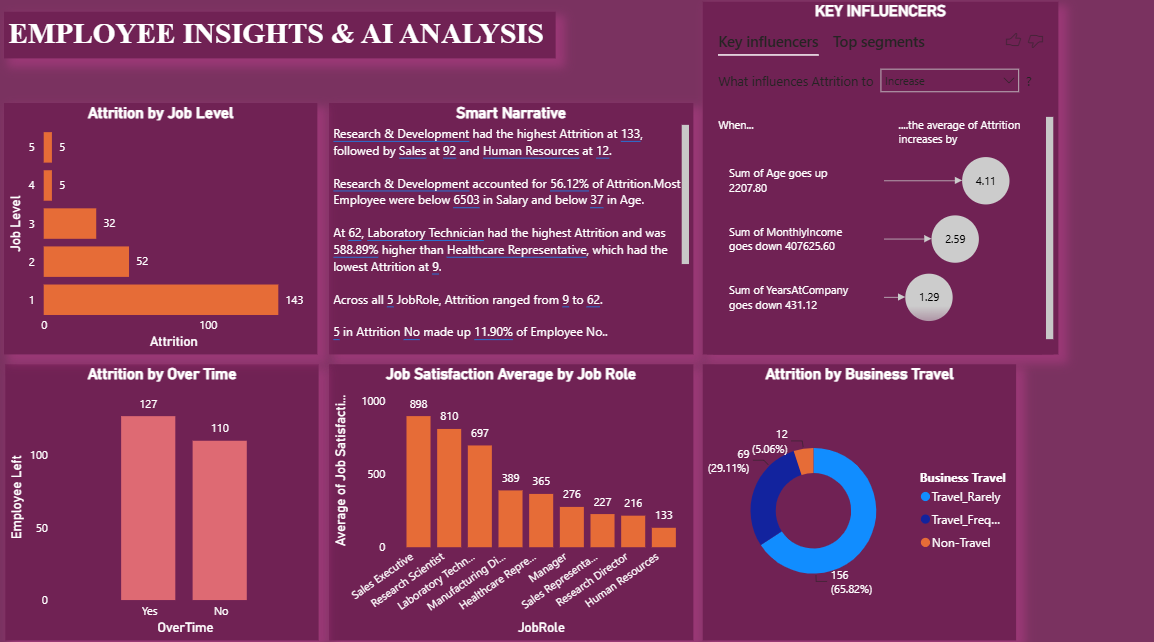

Layout of this report page (visuals, bound fields, positions):
{"tool":"powerbi","page":{"name":"Page 2","canvas":[1280,720],"ordinal":1},"visuals":[{"type":"textbox","title":"Smart Narrative","box":[367.1,121.4,400,275.7],"z":1},{"type":"keyDriversVisual","title":"KEY INFLUENCERS","fields":{"Target":["HR Analytics.Employee Left"],"ExplainBy":["Sum(HR Analytics.Age)","HR Analytics.OverTime","HR Analytics.JobRole","Sum(HR Analytics.YearsAtCompany)","Sum(HR Analytics.MonthlyIncome)"]},"box":[778.6,10,390,387.1],"z":2},{"type":"clusteredColumnChart","title":"Job Satisfaction Average by Job Role","fields":{"Category":["HR Analytics.JobRole"],"Y":["Sum(HR Analytics.JobSatisfaction)"]},"box":[367.1,407.1,400,302.9],"z":3},{"type":"clusteredColumnChart","title":"Attrition by Over Time","fields":{"Category":["HR Analytics.OverTime"],"Y":["HR Analytics.Employee Left"]},"box":[12.9,407.1,344.3,302.9],"z":5},{"type":"barChart","fields":{"Category":["HR Analytics.JobLevel"],"Y":["HR Analytics.Employee Left"]},"box":[11.4,121.4,344.3,275.7],"z":6},{"type":"donutChart","fields":{"Category":["HR Analytics.BusinessTravel"],"Y":["HR Analytics.Employee Left"]},"box":[778.6,407.1,344.3,302.9],"z":7},{"type":"textbox","box":[11.4,20,605.7,51.4],"z":8}]}

Visuals, with their boxes in screenshot pixels (x1, y1, x2, y2), scaled from the page's 1280x720 canvas onto the 1154x642 screenshot:
"Smart Narrative" textbox: pyautogui.locateOnScreen(331, 108, 692, 354)
"KEY INFLUENCERS" keyDriversVisual: pyautogui.locateOnScreen(702, 9, 1054, 354)
"Job Satisfaction Average by Job Role" clusteredColumnChart: pyautogui.locateOnScreen(331, 363, 692, 633)
"Attrition by Over Time" clusteredColumnChart: pyautogui.locateOnScreen(12, 363, 322, 633)
barChart - HR Analytics.JobLevel x HR Analytics.Employee Left: pyautogui.locateOnScreen(10, 108, 321, 354)
donutChart - HR Analytics.BusinessTravel x HR Analytics.Employee Left: pyautogui.locateOnScreen(702, 363, 1012, 633)
textbox: pyautogui.locateOnScreen(10, 18, 556, 64)
